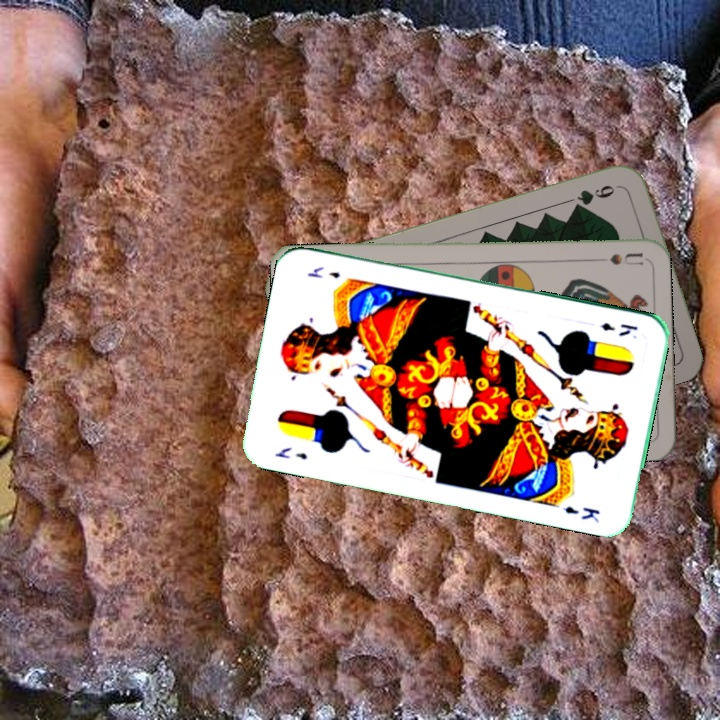EK: (597, 318, 641, 339), (270, 443, 310, 462)
G9: (569, 181, 618, 213)
SU: (585, 248, 644, 267)
